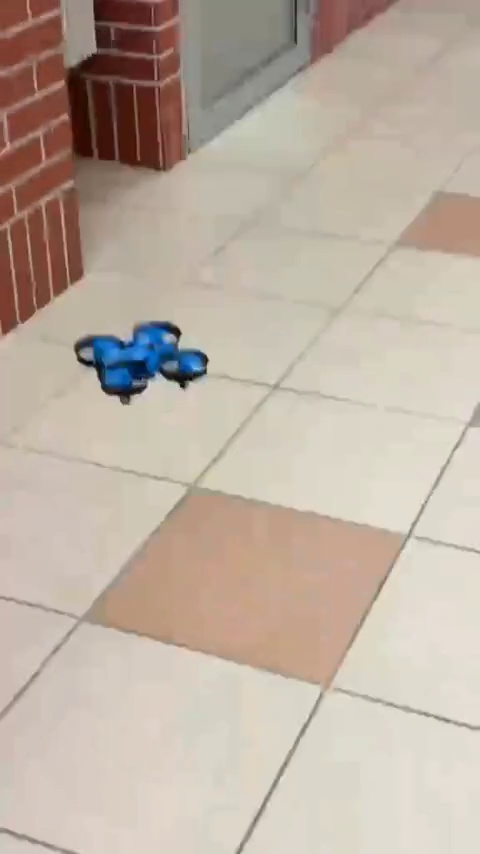drone: (72, 322, 207, 400)
